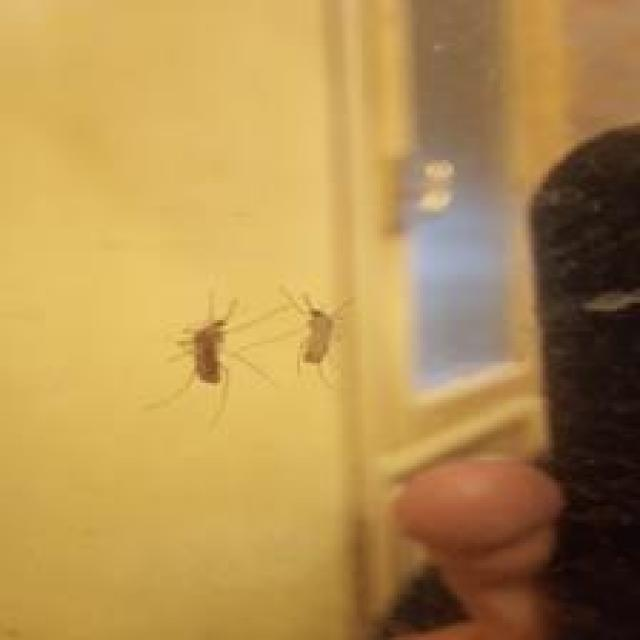Culex: (141, 283, 353, 428)
